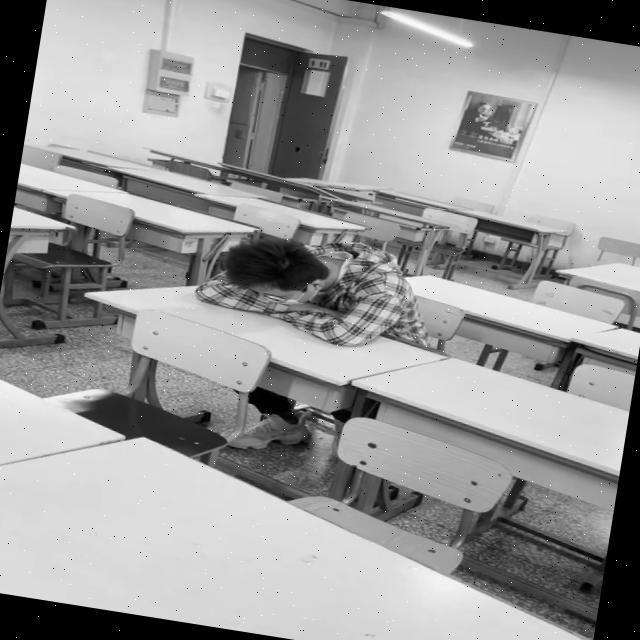sleep: (193, 218, 466, 359)
